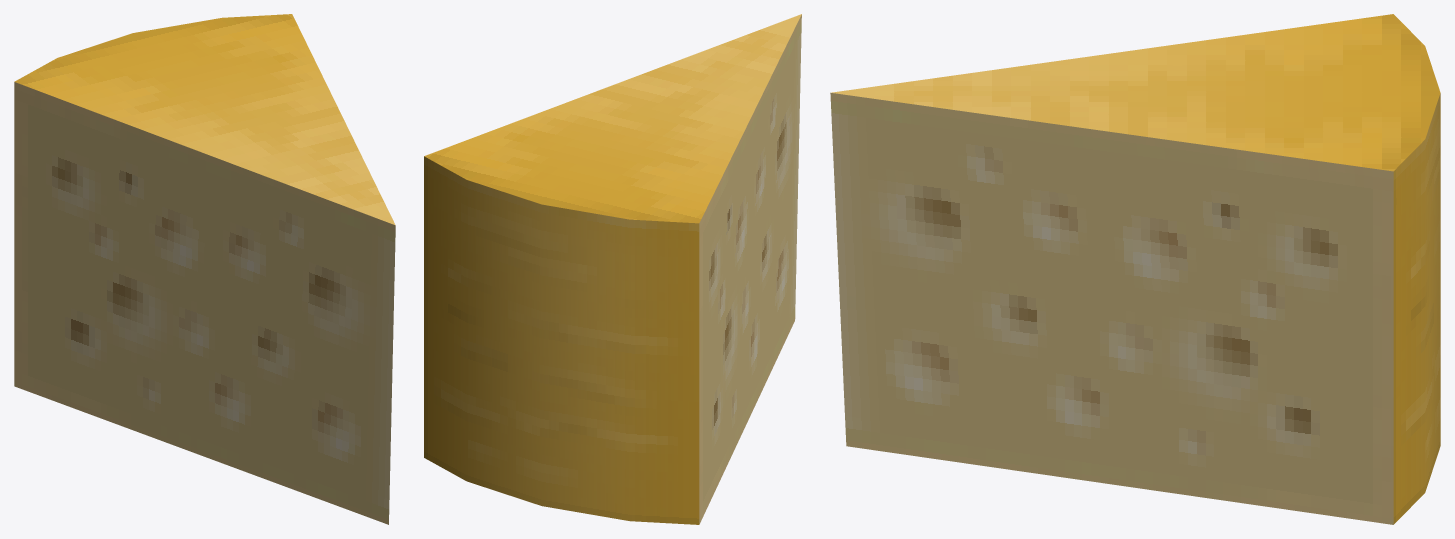
File: ParmesanCheese_Ground.fbx
3 renders of one model, left to right at view 1: azimuth 30°, elevation 25°; view 2: azimuth 150°, elevation 25°; view 3: azimuth 270°, elevation 25°, orthographic. The views are drawn at different scales.
Parts seen in each view (by area): view 1: Cheese001; view 2: Cheese001; view 3: Cheese001.
Boxes of the visible parts, left/top/right/bottom form: Cheese001: left=14, top=14, right=395, bottom=524; Cheese001: left=424, top=14, right=801, bottom=524; Cheese001: left=830, top=14, right=1440, bottom=524.
Size of the model in its own units: 16.45 by 17.21 by 26.93.
